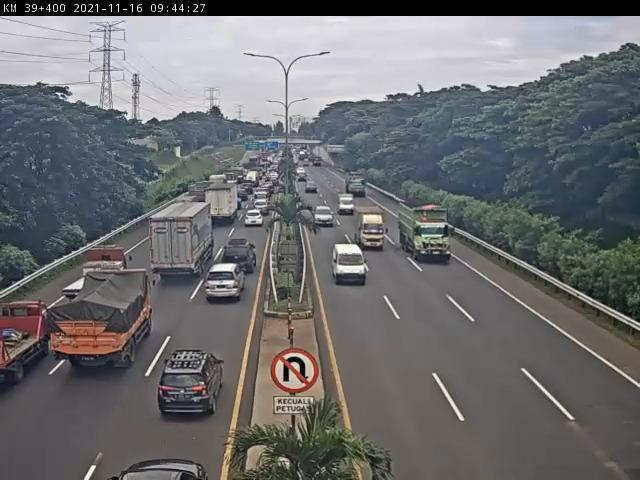car: (159, 349, 224, 421), (329, 243, 371, 287), (206, 262, 245, 305), (224, 239, 263, 281), (312, 202, 334, 234)
truck: (47, 269, 157, 374), (2, 296, 57, 383), (152, 203, 211, 279), (60, 245, 132, 306), (398, 203, 454, 268), (354, 211, 390, 252), (207, 184, 240, 223), (337, 192, 358, 216)
